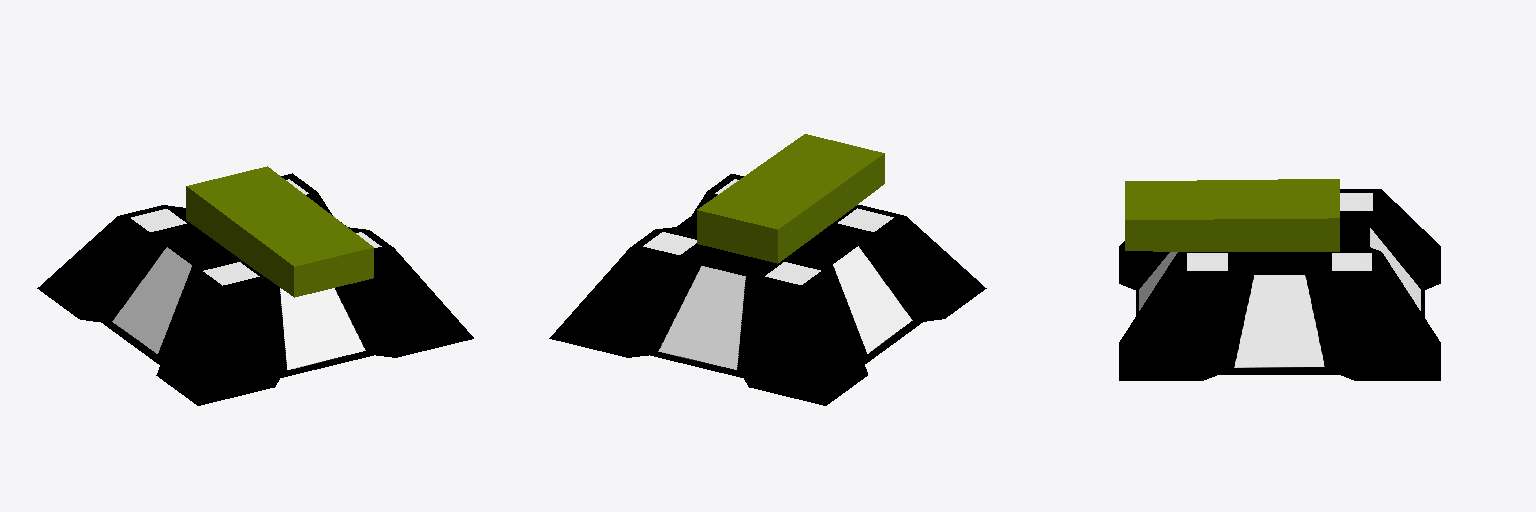
3 views of the same model, side by side, from view 1: azimuth 30°, elevation 25°; view 2: azimuth 150°, elevation 25°; view 3: azimuth 270°, elevation 25° (orthographic).
Visible parts, largest first — view 1: Box003, Box002; view 2: Box003, Box002; view 3: Box003, Box002.
Boxes of the visible parts, box(x1,y1,x2,y2) form: Box003: box(37, 173, 473, 405); Box002: box(186, 166, 373, 297); Box003: box(549, 174, 986, 405); Box002: box(697, 134, 884, 263); Box003: box(1119, 189, 1440, 380); Box002: box(1125, 179, 1339, 251).
Bounding box in the file's own units: 43.76 × 17.46 × 44.05.
Materials: 2 (1 with a texture image).